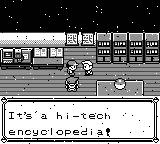leer: (33, 48, 63, 70), (1, 49, 31, 69), (65, 32, 94, 47)
main: (66, 61, 79, 75)
no-caminable: (0, 1, 159, 32), (98, 34, 159, 63), (1, 34, 64, 47), (96, 80, 144, 96)
npc: (64, 76, 80, 91), (82, 61, 94, 75)
poke-ball: (114, 78, 126, 90)
texto: (0, 97, 159, 143)
